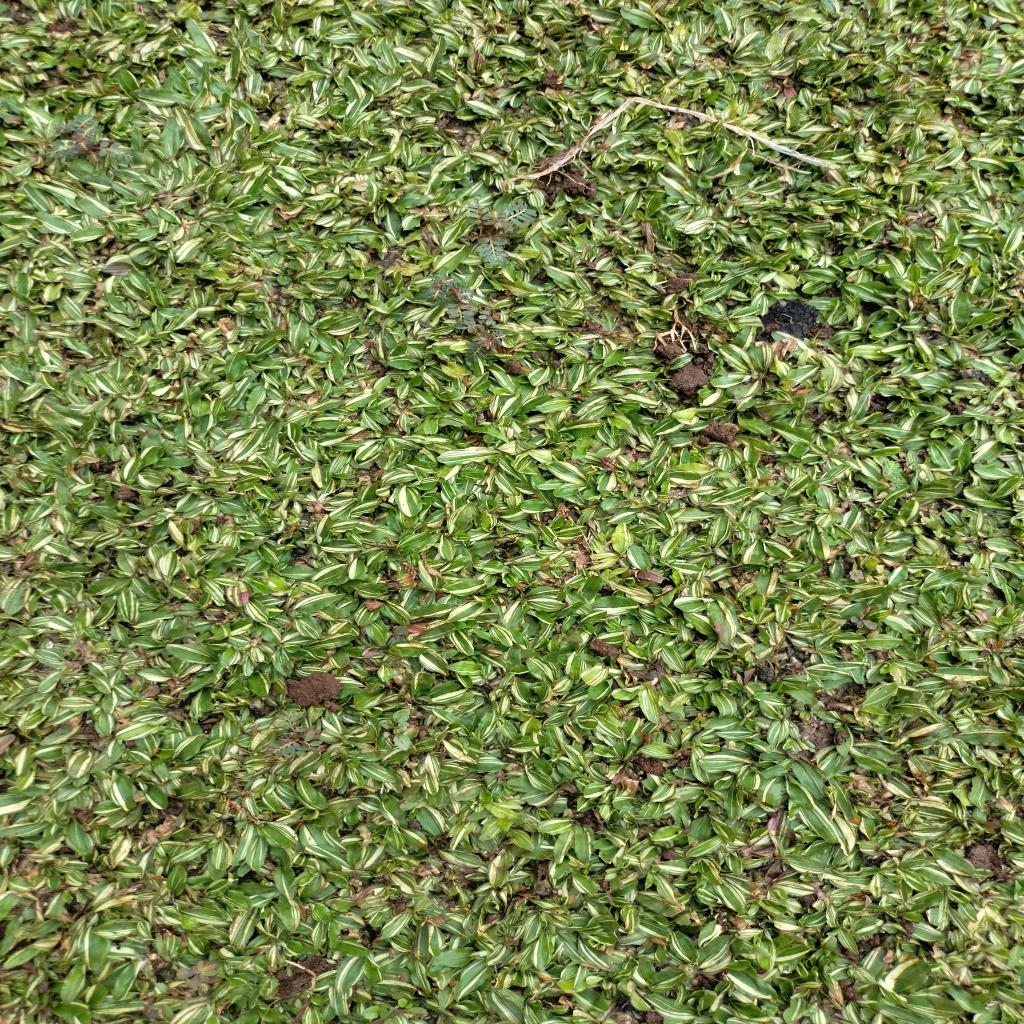bayi: (395, 994, 415, 1014)
buah daun: (418, 266, 508, 354), (461, 196, 541, 271), (46, 112, 140, 168), (259, 704, 328, 762), (172, 958, 226, 993), (880, 456, 912, 494), (844, 609, 881, 634)
ungu tunggang: (378, 707, 419, 752)
